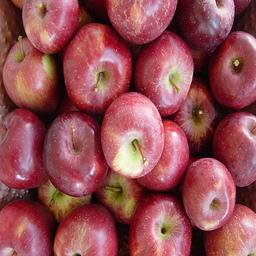apple: (59, 21, 132, 117), (100, 91, 163, 178), (131, 31, 194, 117), (43, 114, 107, 198), (2, 37, 63, 117), (206, 30, 256, 111), (133, 120, 189, 192), (126, 192, 191, 254), (1, 107, 49, 190), (182, 157, 235, 229), (173, 80, 219, 156), (211, 111, 256, 187), (52, 203, 117, 255), (172, 1, 235, 52), (22, 1, 81, 55), (106, 1, 176, 45), (199, 202, 255, 255), (1, 200, 55, 254), (96, 167, 145, 223), (40, 183, 89, 221)
